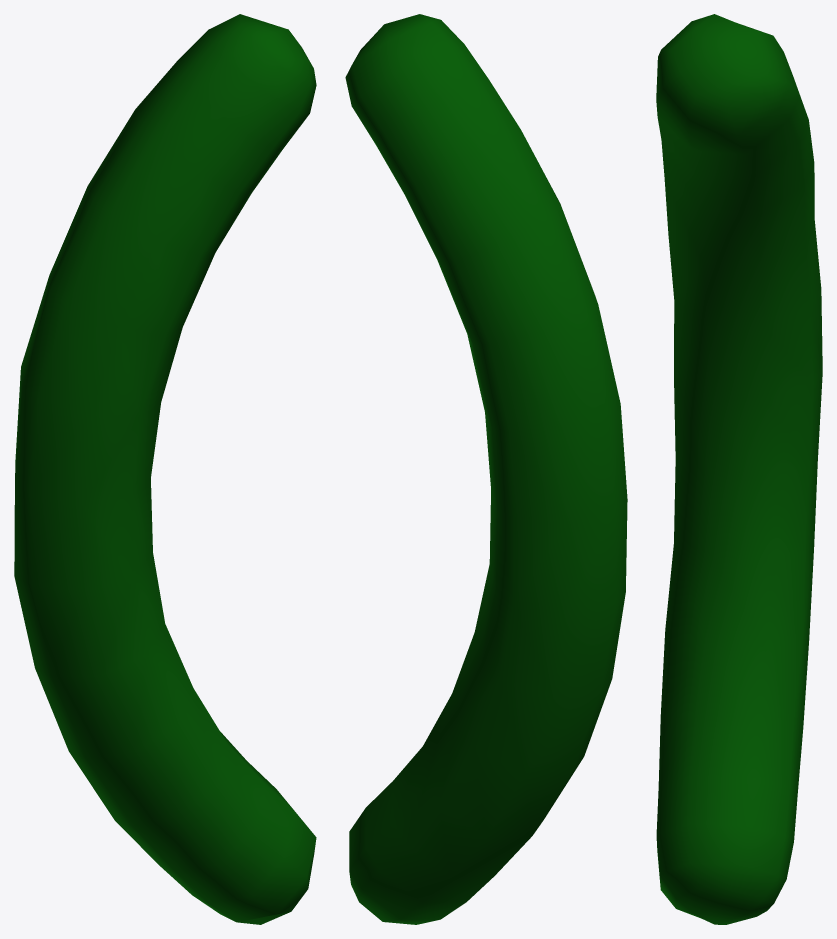
The model's file is meat10.FBX.
3 views of the same model, side by side, from view 1: azimuth 30°, elevation 25°; view 2: azimuth 150°, elevation 25°; view 3: azimuth 270°, elevation 25° (orthographic).
Parts seen in each view (by area): view 1: SM_meat10_0; view 2: SM_meat10_0; view 3: SM_meat10_0.
Boxes of the visible parts, x1=… form: SM_meat10_0: x1=14, y1=14, x2=316, y2=924; SM_meat10_0: x1=345, y1=14, x2=627, y2=924; SM_meat10_0: x1=656, y1=14, x2=822, y2=924.
Size of the model in its own units: 9.23 by 4.8 by 28.65.
